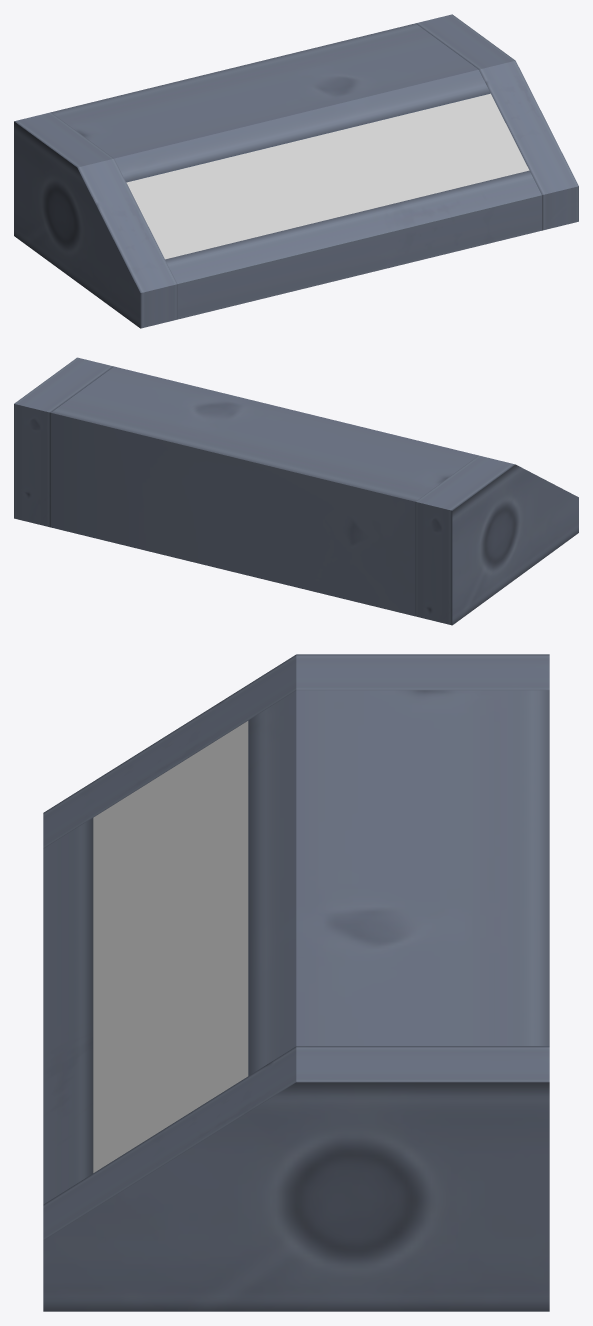
Rendered from obj_spaceship_frame02.fbx.
3 renders of one model, top to bottom at view 1: azimuth 30°, elevation 25°; view 2: azimuth 150°, elevation 25°; view 3: azimuth 270°, elevation 25°, orthographic. The views are drawn at different scales.
Parts seen in each view (by area): view 1: polySurface256; view 2: polySurface256; view 3: polySurface256.
Part boxes in pixels (left/top/right/bottom): polySurface256: left=14, top=14, right=578, bottom=328; polySurface256: left=14, top=357, right=578, bottom=625; polySurface256: left=43, top=654, right=549, bottom=1311.
Size of the model in its own units: 4 by 1 by 2.
